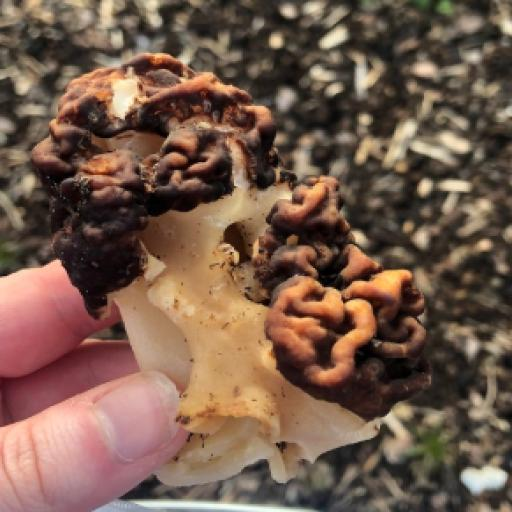mushroom: (0, 0, 470, 512)
